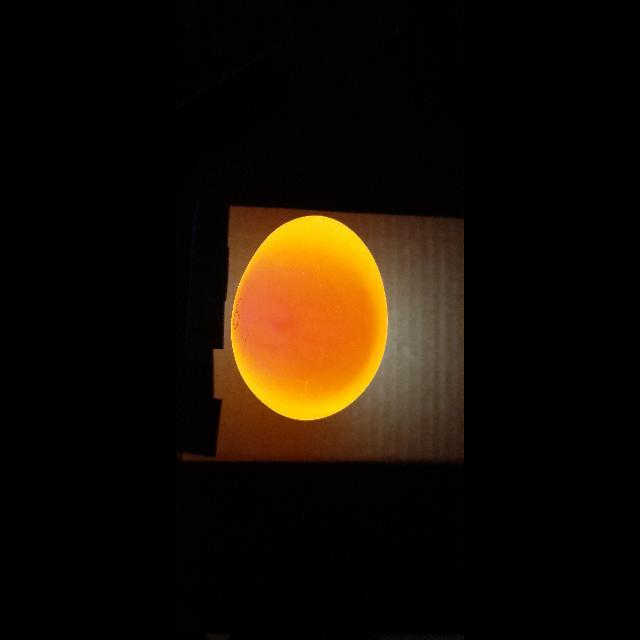Fertile: (226, 212, 388, 422)
